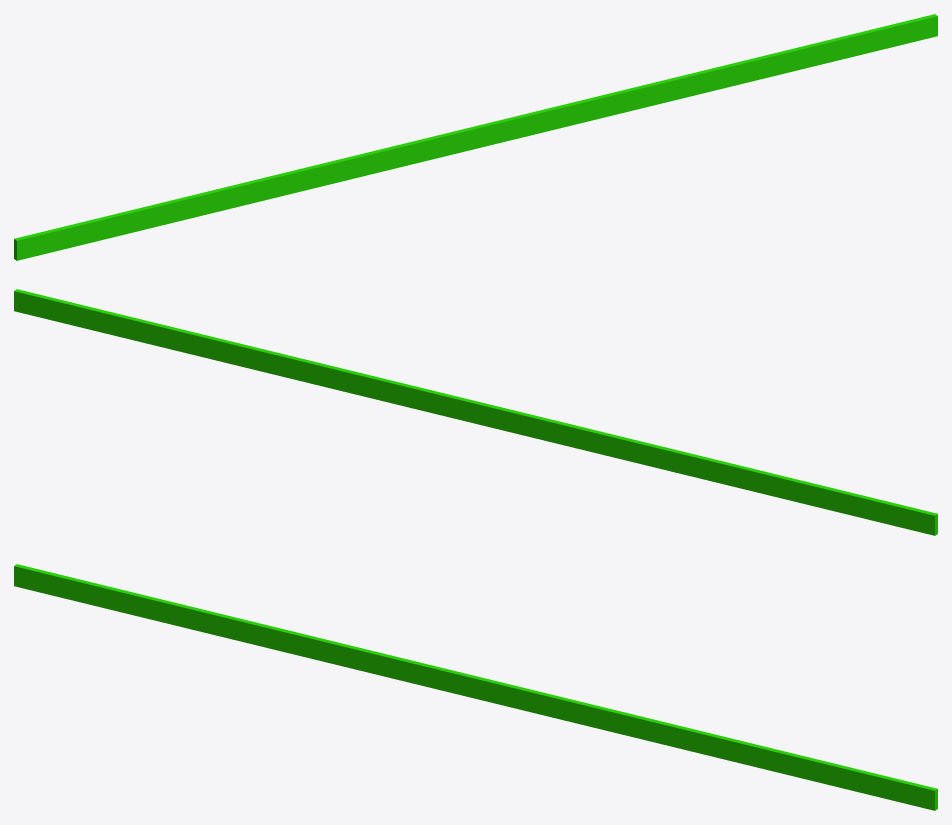
File: W_01_Wall_Int_10.fbx
3 renders of one model, top to bottom at view 1: azimuth 30°, elevation 25°; view 2: azimuth 150°, elevation 25°; view 3: azimuth 330°, elevation 25°, orthographic.
Visible parts, largest first — view 1: W_01_Wall_Int_10; view 2: W_01_Wall_Int_10; view 3: W_01_Wall_Int_10.
Boxes of the visible parts, <box> form: W_01_Wall_Int_10: <box>14,14,937,260</box>; W_01_Wall_Int_10: <box>14,289,937,535</box>; W_01_Wall_Int_10: <box>14,564,937,810</box>.
Size of the model in its own units: 1812 by 37.67 by 9.88.
